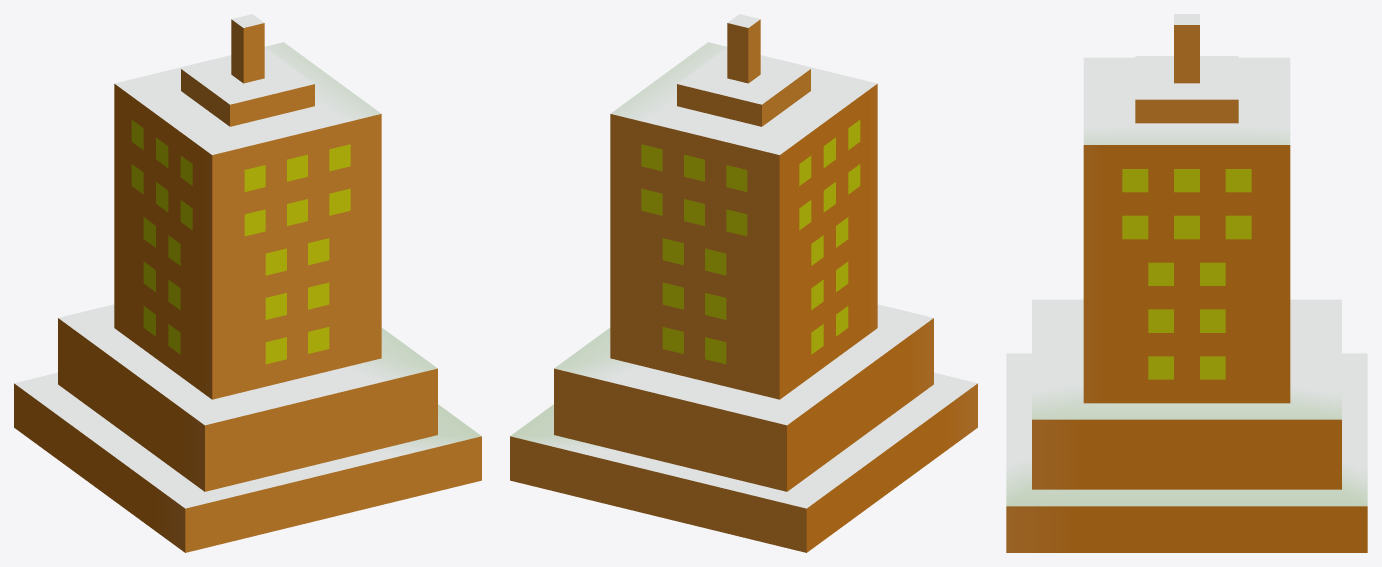
The model's file is HQ.OrangeStar.AmberBlaze.Snow.glb.
The picture shows the model from 3 angles, left to right: view 1: azimuth 30°, elevation 25°; view 2: azimuth 150°, elevation 25°; view 3: azimuth 270°, elevation 25°; orthographic projection. The views are drawn at different scales.
Parts seen in each view (by area): view 1: HQ.OrangeStar.AmberBlaze.Snow; view 2: HQ.OrangeStar.AmberBlaze.Snow; view 3: HQ.OrangeStar.AmberBlaze.Snow.
Part boxes in pixels (x1=…): HQ.OrangeStar.AmberBlaze.Snow: x1=14, y1=14, x2=481, y2=552; HQ.OrangeStar.AmberBlaze.Snow: x1=510, y1=14, x2=977, y2=552; HQ.OrangeStar.AmberBlaze.Snow: x1=1006, y1=14, x2=1367, y2=552.
Bounding box in the file's own units: 2.8 × 3.91 × 2.8.
Materials: 2 (1 with a texture image).
